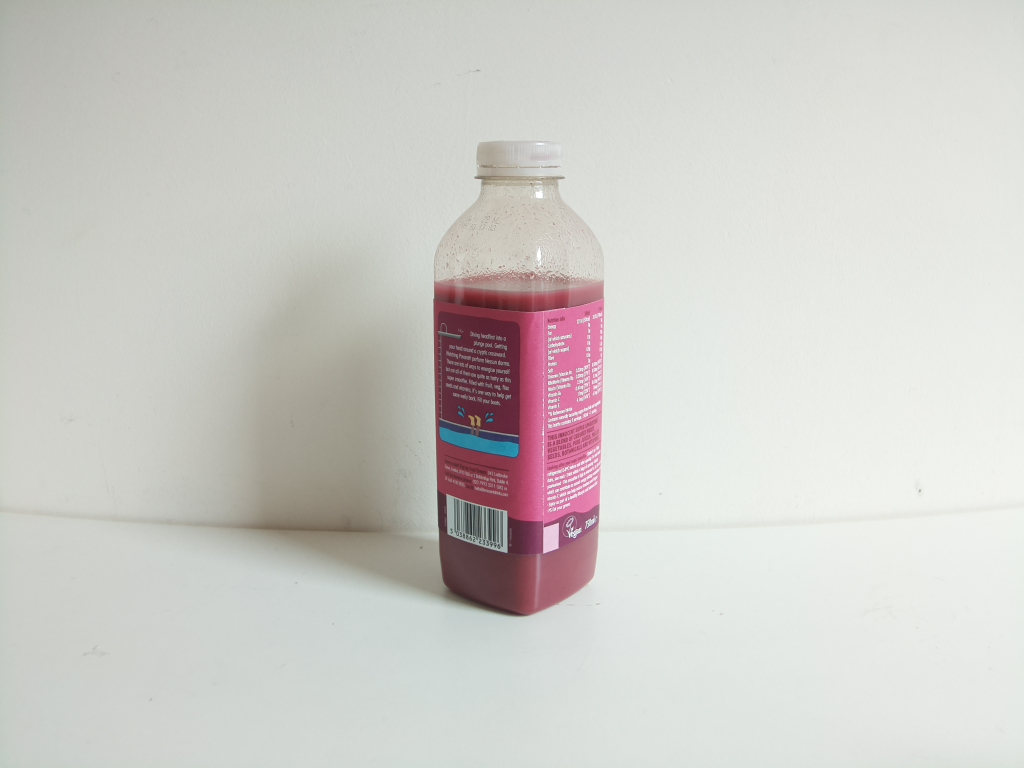juice: (433, 131, 612, 624)
